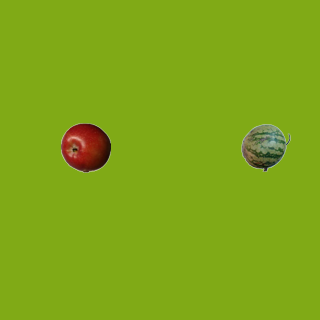Apple Braeburn: (60, 122, 110, 172)
Watermelon: (240, 122, 290, 172)
